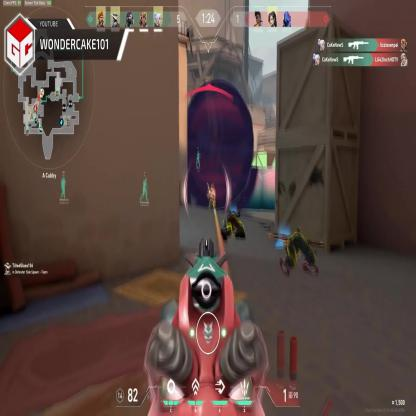enemy: (208, 180, 217, 211)
enemy_head: (211, 182, 214, 192)
